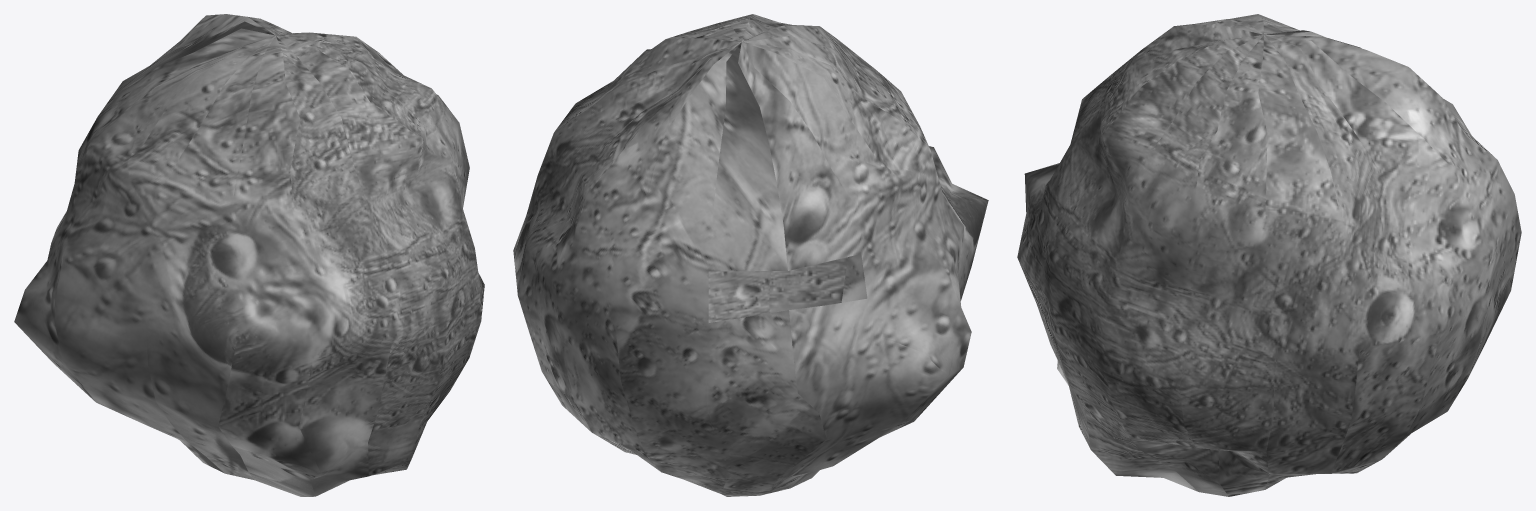
The model's file is Basa_asteroid.fbx.
3 renders of one model, left to right at view 1: azimuth 30°, elevation 25°; view 2: azimuth 150°, elevation 25°; view 3: azimuth 270°, elevation 25°, orthographic. The views are drawn at different scales.
Visible parts, largest first — view 1: Sphere; view 2: Sphere; view 3: Sphere.
Boxes of the visible parts, x1,y1,x2,y2 form: Sphere: [14, 14, 484, 496]; Sphere: [513, 14, 988, 496]; Sphere: [1017, 14, 1521, 496].
Bounding box in the file's own units: 1994 × 1973 × 2044.
